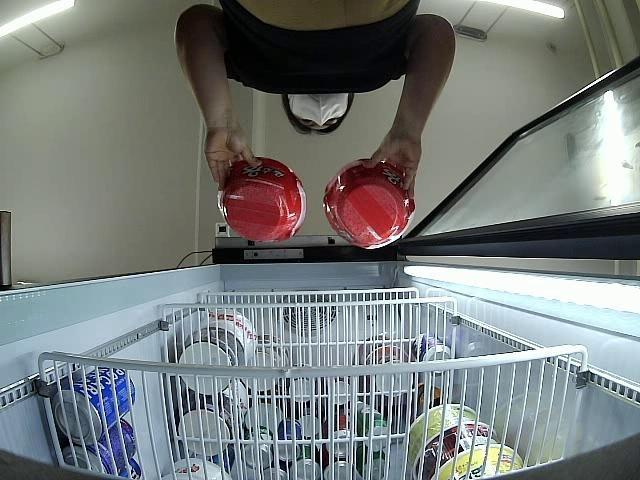10_wangTtukkeong: (324, 158, 414, 250), (216, 156, 308, 241)
